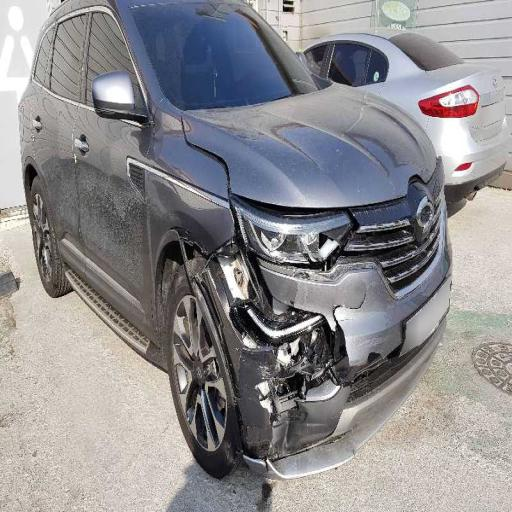broken: (196, 222, 335, 436), (145, 101, 264, 220)
